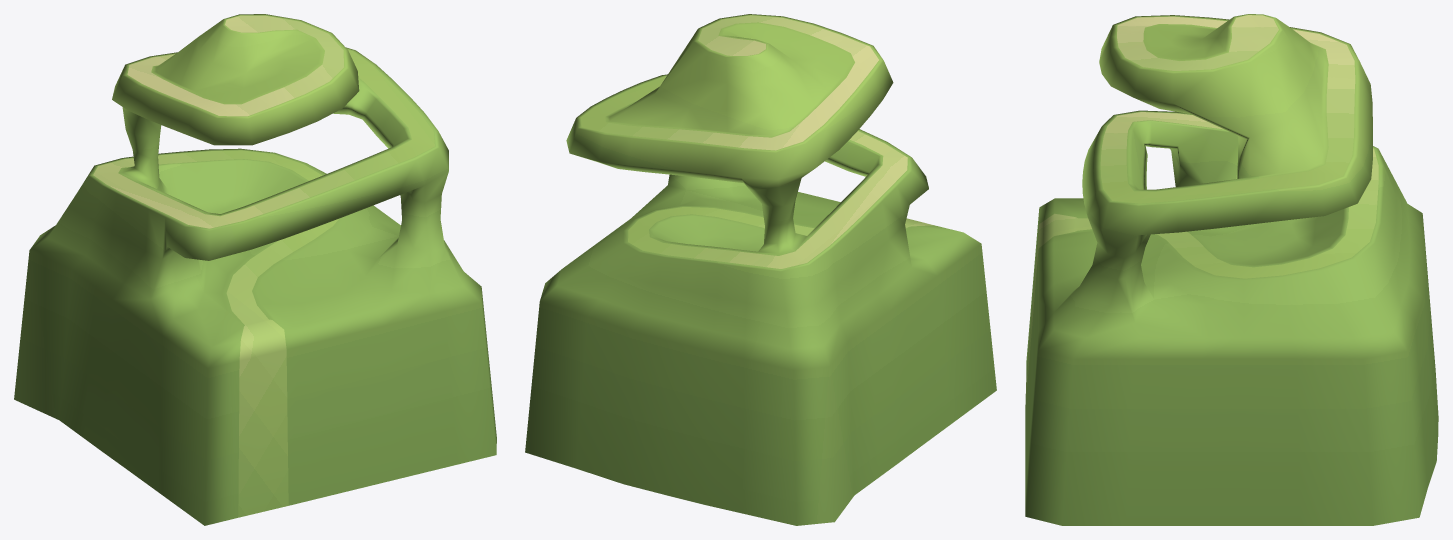
File: model_island_04.fbx
3 renders of one model, left to right at view 1: azimuth 30°, elevation 25°; view 2: azimuth 150°, elevation 25°; view 3: azimuth 270°, elevation 25°, orthographic. The views are drawn at different scales.
Visible parts, largest first — view 1: island_04_geo; view 2: island_04_geo; view 3: island_04_geo.
Boxes of the visible parts, left/top/right/bottom form: island_04_geo: left=14, top=14, right=496, bottom=525; island_04_geo: left=525, top=14, right=996, bottom=525; island_04_geo: left=1025, top=14, right=1438, bottom=525.
Size of the model in its own units: 256 by 295 by 265.
